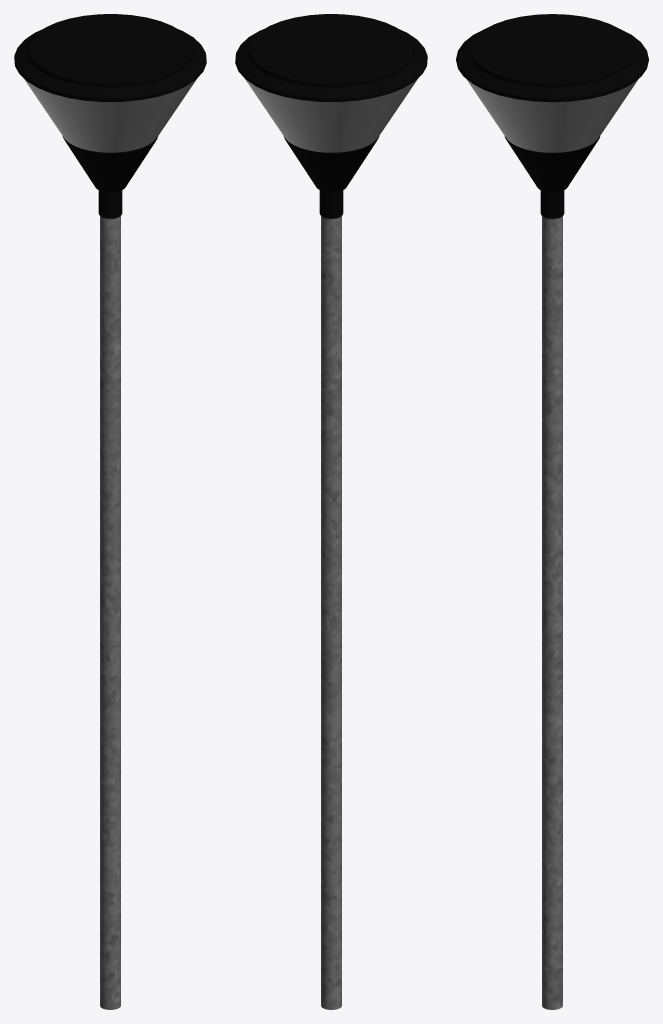
The model's file is lampadaire.glb.
The picture shows the model from 3 angles, left to right: view 1: azimuth 30°, elevation 25°; view 2: azimuth 150°, elevation 25°; view 3: azimuth 270°, elevation 25°; orthographic projection.
Visible parts, largest first — view 1: Lamapdaire; view 2: Lamapdaire; view 3: Lamapdaire.
Boxes of the visible parts, <box> form: Lamapdaire: <box>14,14,206,1009</box>; Lamapdaire: <box>235,14,427,1009</box>; Lamapdaire: <box>456,14,648,1009</box>.
Size of the model in its own units: 0.6702 by 3.68 by 0.6702.
Materials: 2 (1 with a texture image).
